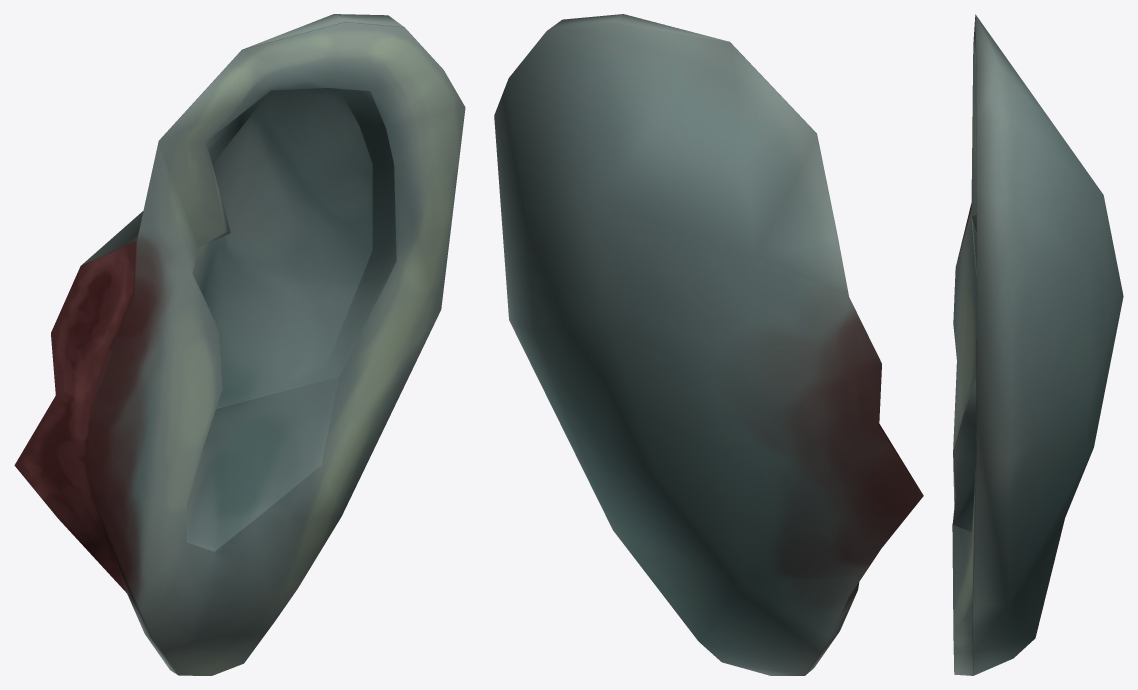
File: Ear.fbx
3 renders of one model, left to right at view 1: azimuth 30°, elevation 25°; view 2: azimuth 150°, elevation 25°; view 3: azimuth 270°, elevation 25°, orthographic. The views are drawn at different scales.
Parts seen in each view (by area): view 1: ear; view 2: ear; view 3: ear.
Boxes of the visible parts, x1,y1,x2,y2 form: ear: (14,14,465,675); ear: (494,14,923,675); ear: (952,14,1123,675).
Bounding box in the file's own units: 23.46 × 31.75 × 7.32.
